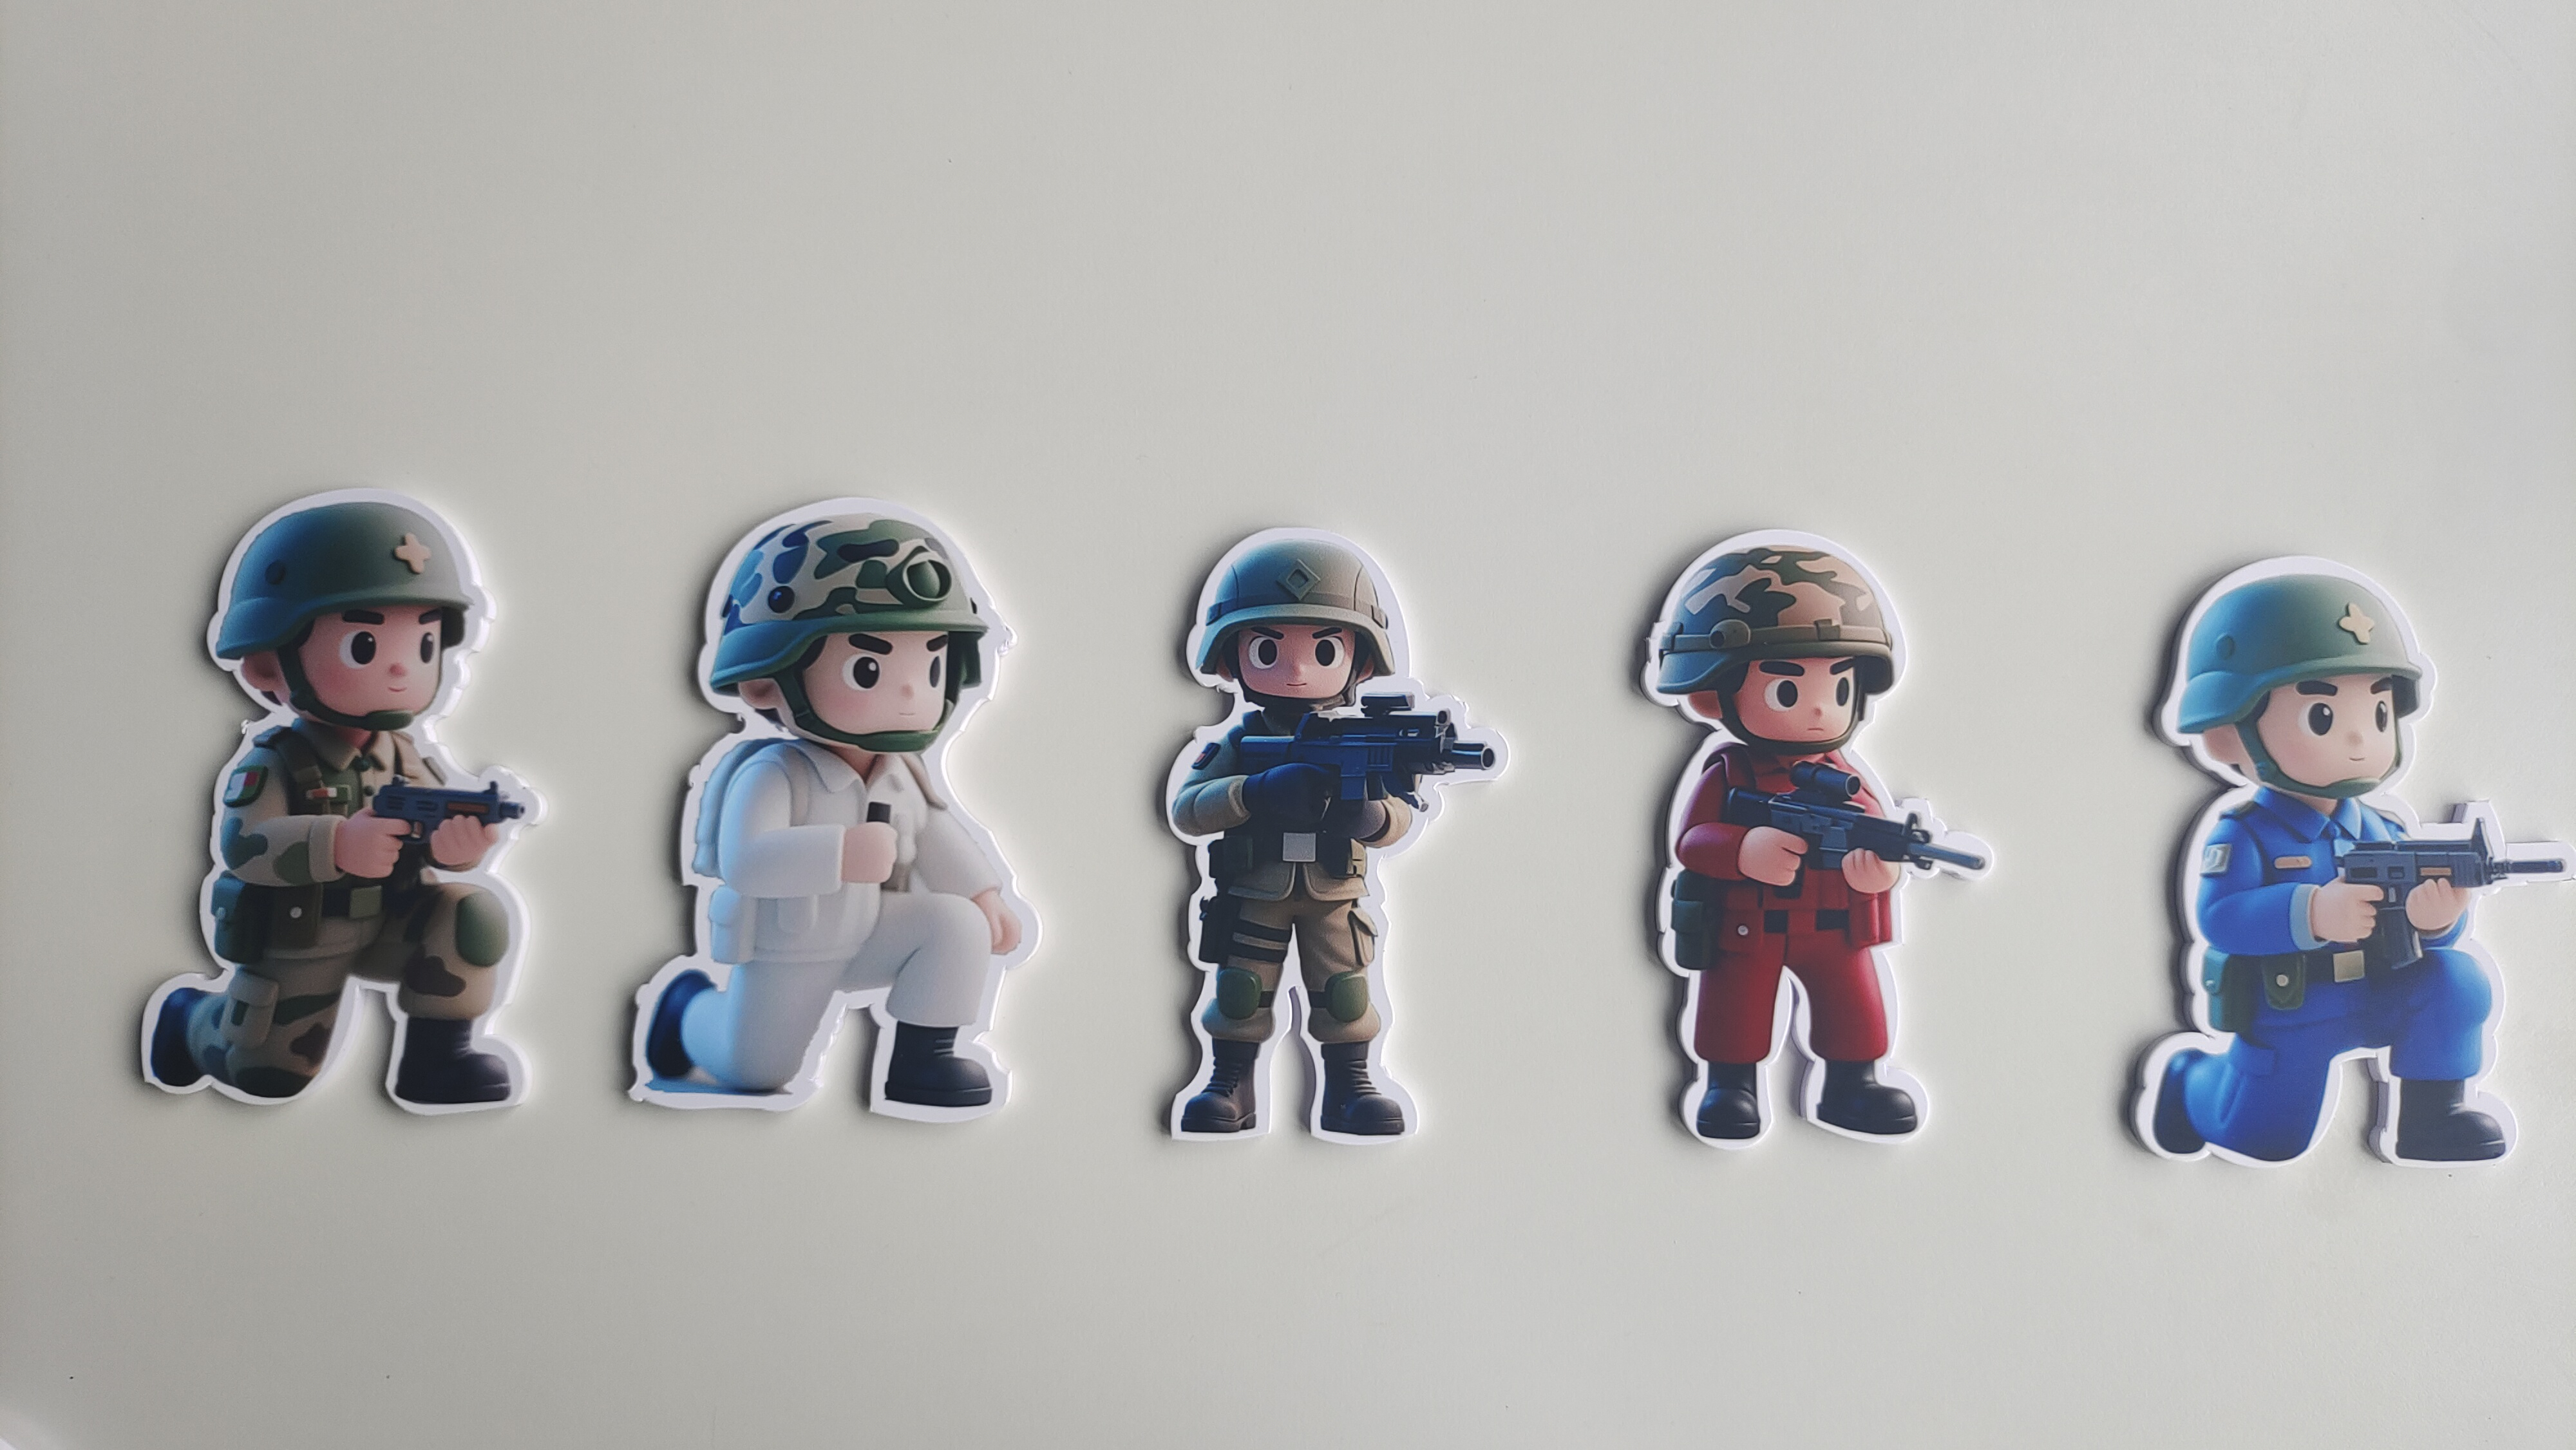enemy1: (1638, 748, 1941, 1146)
enemy2: (2111, 798, 2532, 1192)
friend: (111, 729, 548, 1123), (1143, 706, 1453, 1155)
hostage: (614, 752, 1054, 1126)
